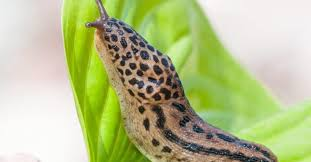slug: (84, 1, 271, 162)
